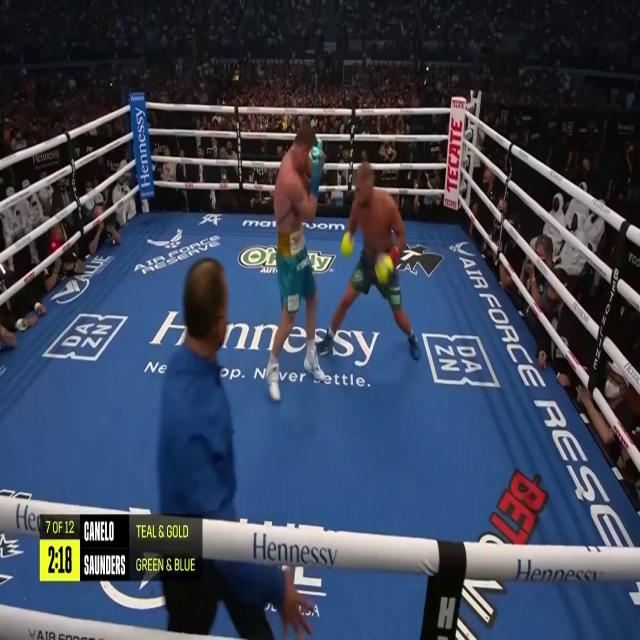boxer_1: (356, 163, 391, 252)
boxer_2: (275, 124, 317, 233)
gloves_1: (375, 244, 400, 284), (341, 230, 354, 255)
gloves_2: (310, 137, 324, 197)
